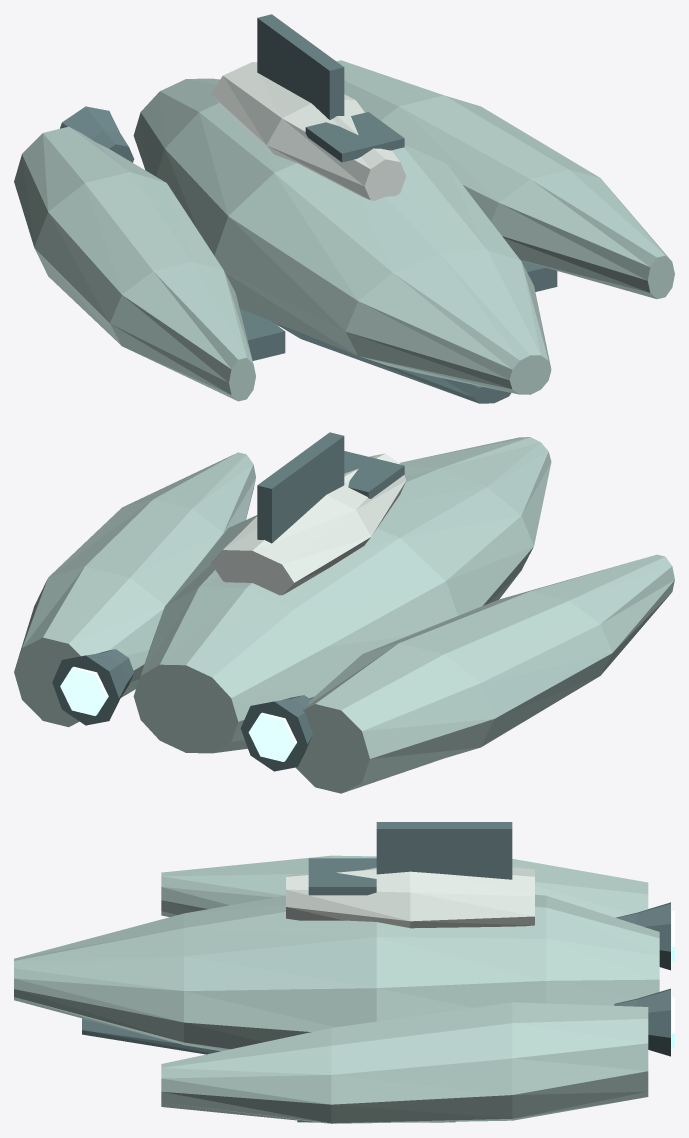
3 views of the same model, one above another, from view 1: azimuth 30°, elevation 25°; view 2: azimuth 150°, elevation 25°; view 3: azimuth 270°, elevation 25° (orthographic). The views are drawn at different scales.
Size of the model in its own units: 9.6 by 4.6 by 11.67.
